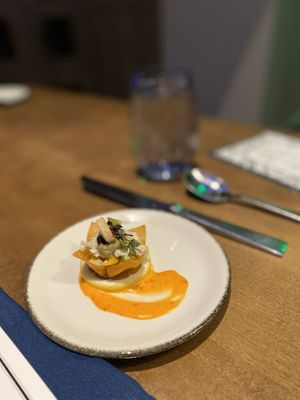pizza: (126, 65, 199, 181)
sandwich: (81, 176, 289, 258), (181, 165, 300, 224)
